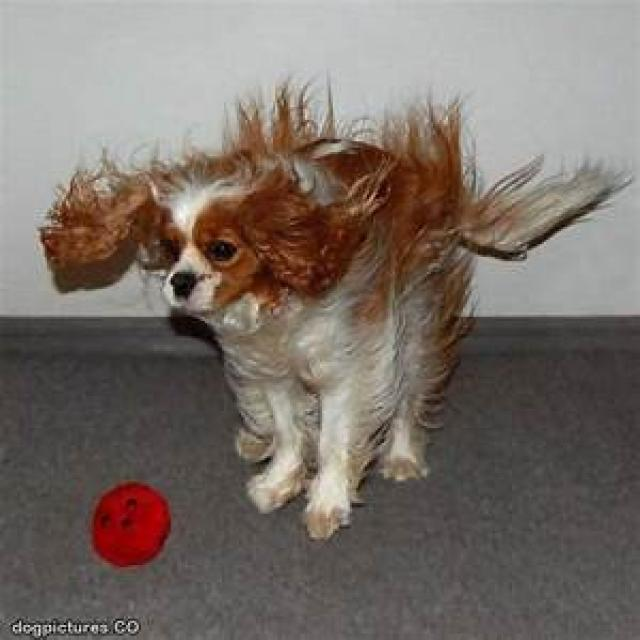animal: (28, 110, 616, 521)
